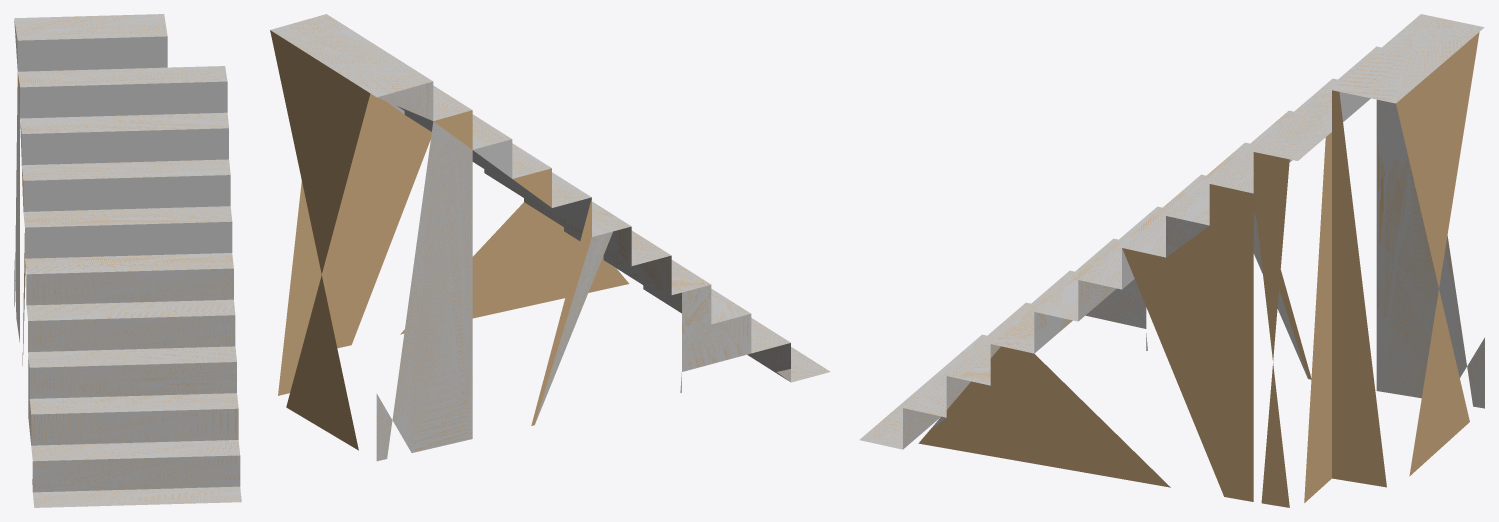
Rendered from schodiste.dae.
3 renders of one model, left to right at view 1: azimuth 30°, elevation 25°; view 2: azimuth 150°, elevation 25°; view 3: azimuth 270°, elevation 25°, orthographic. The views are drawn at different scales.
Parts seen in each view (by area): view 1: SketchUp (×12); view 2: SketchUp (×14); view 3: SketchUp (×12).
Part boxes in pixels (bbox=[...]): SketchUp (×12): bbox=[14, 14, 241, 507]; SketchUp (×14): bbox=[270, 14, 830, 461]; SketchUp (×12): bbox=[859, 14, 1484, 507].
Size of the model in its own units: 81.71 by 107 by 86.61.
